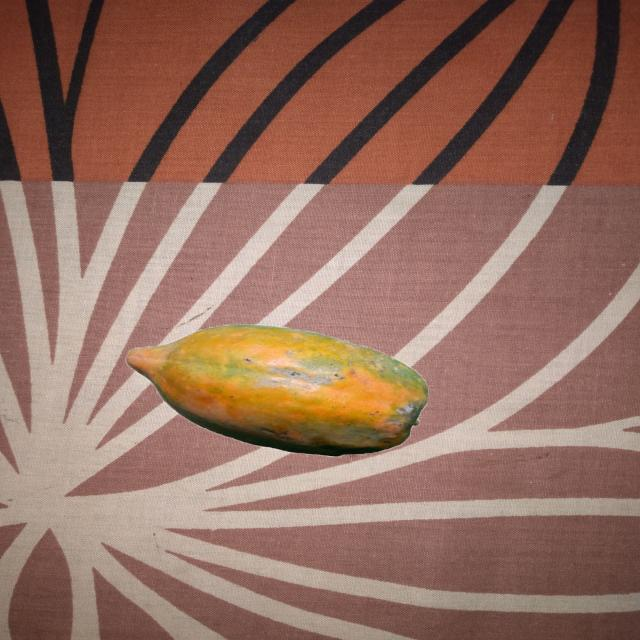Pepaya rippen: (122, 317, 431, 457)
